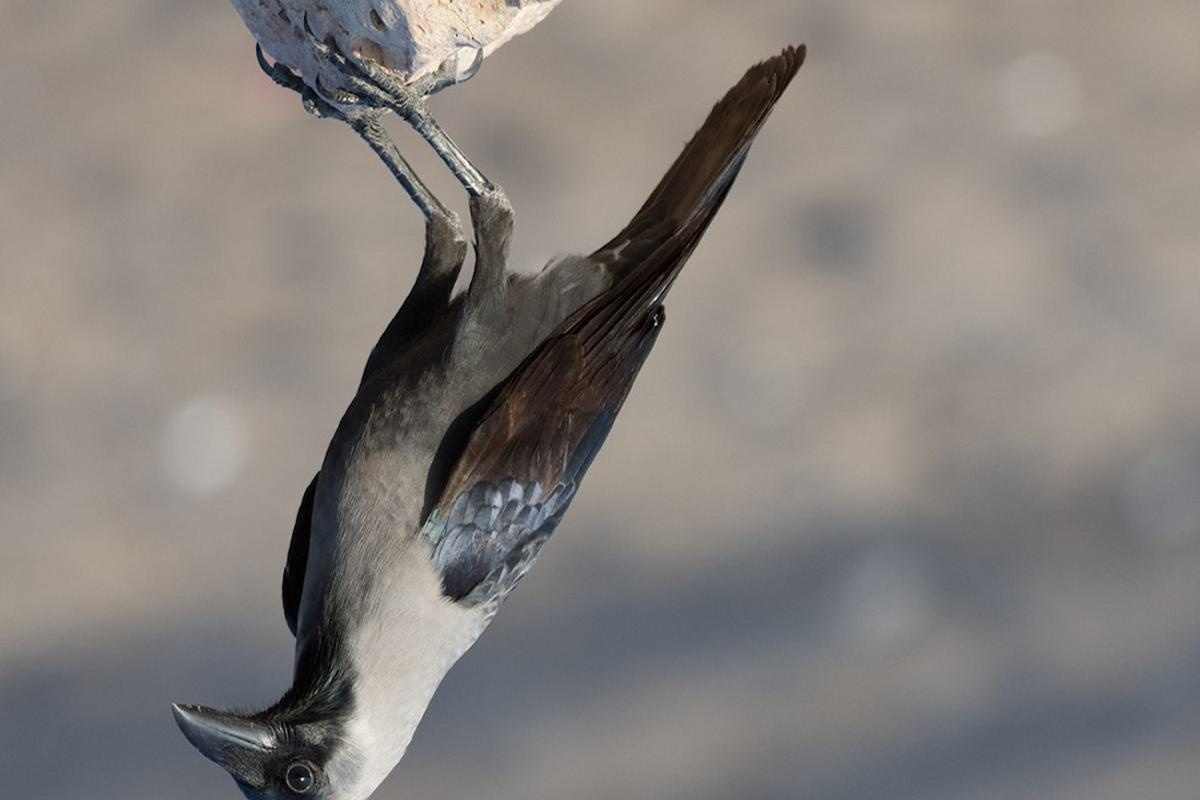crow: (165, 21, 815, 795)
